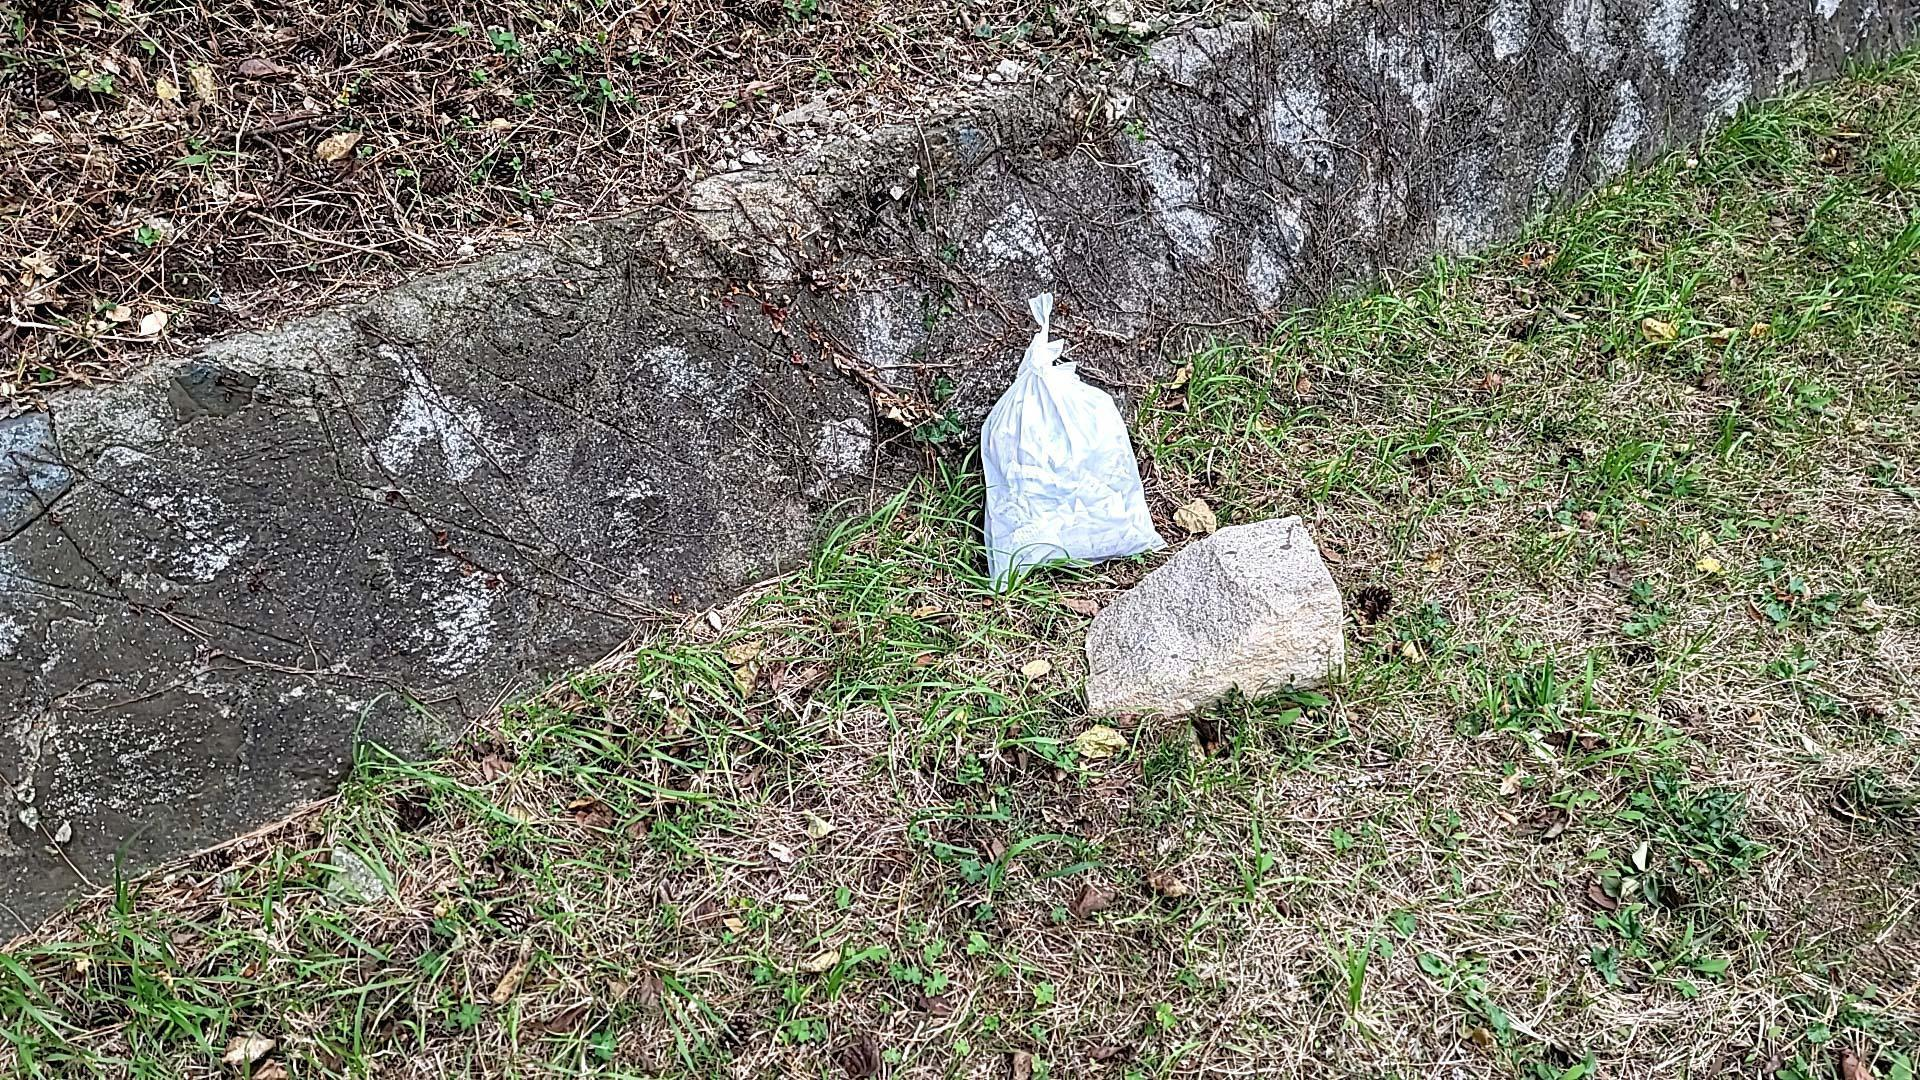white_bag: (945, 284, 1168, 587)
